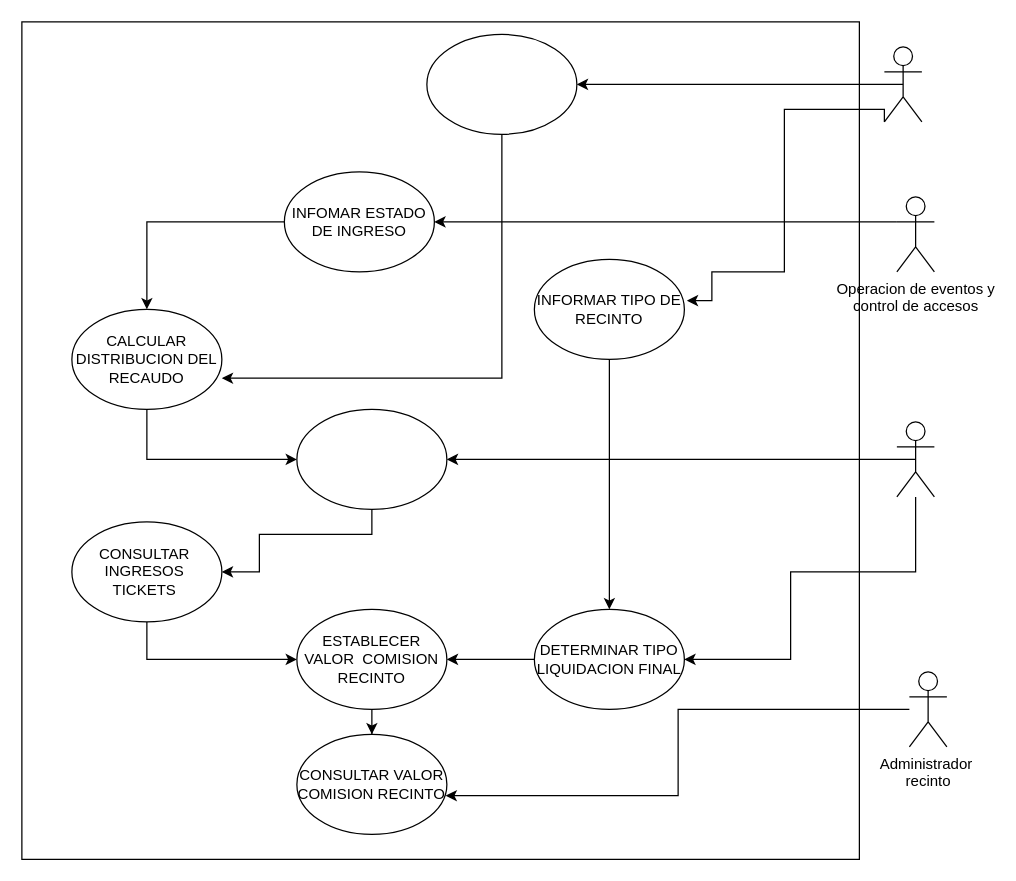
Image size: 1016x881. Some labels were removed from this diagram. Each missing label, with the box of its shape:
Administrador financiero: (896, 421, 934, 497)
CONSULTAR DISTRIBUCION DEL RECAUDO: (296, 408, 447, 509)
Gestión de recintos e inventarios de aforo: (883, 46, 922, 122)
INFORMAR VENTAS: (426, 33, 577, 134)
